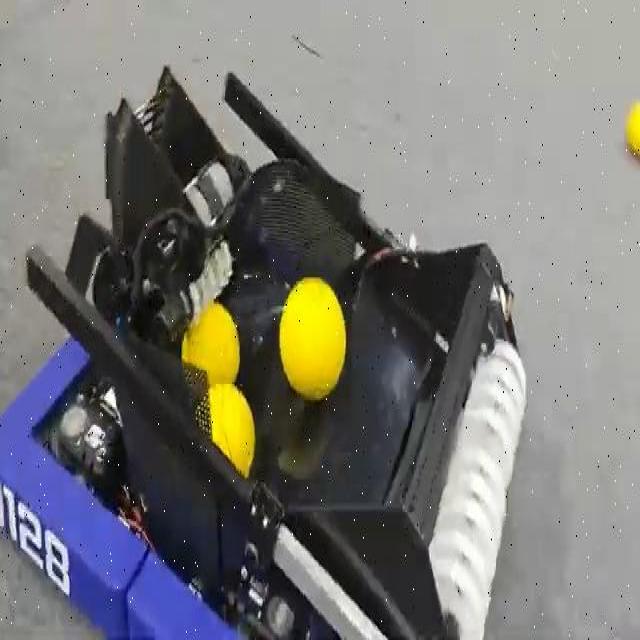Fuel: (279, 277, 345, 400), (180, 302, 240, 385), (181, 302, 239, 384), (209, 383, 255, 477), (209, 384, 255, 476), (626, 101, 639, 155)
